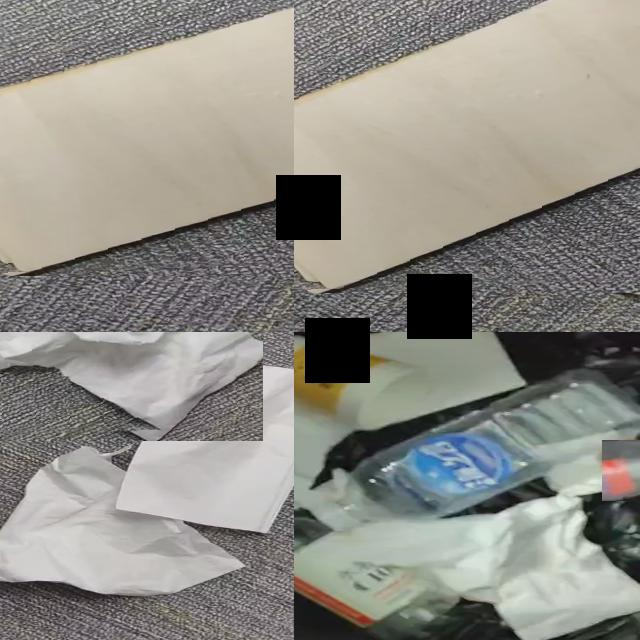bottle: (312, 370, 640, 530), (294, 516, 459, 638), (602, 441, 640, 501)
carton: (294, 0, 640, 290), (0, 12, 294, 273)
dixie_cup: (294, 336, 421, 430)
paper: (321, 496, 640, 640), (0, 446, 242, 596), (118, 359, 294, 533), (0, 332, 263, 432), (332, 332, 525, 418), (535, 430, 640, 496)
